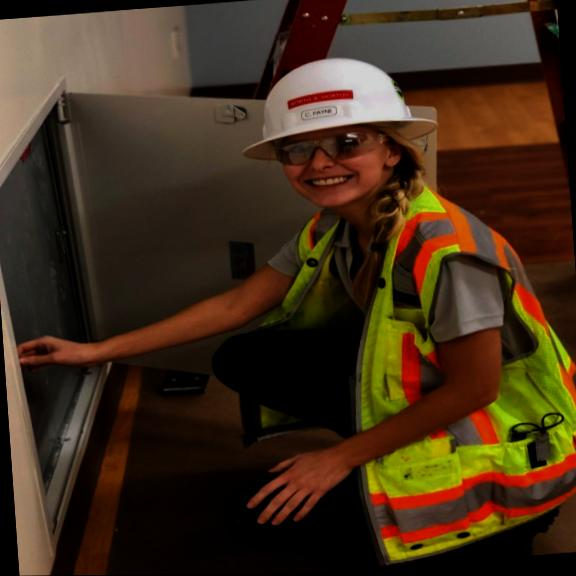safety_vest: (248, 172, 576, 570)
